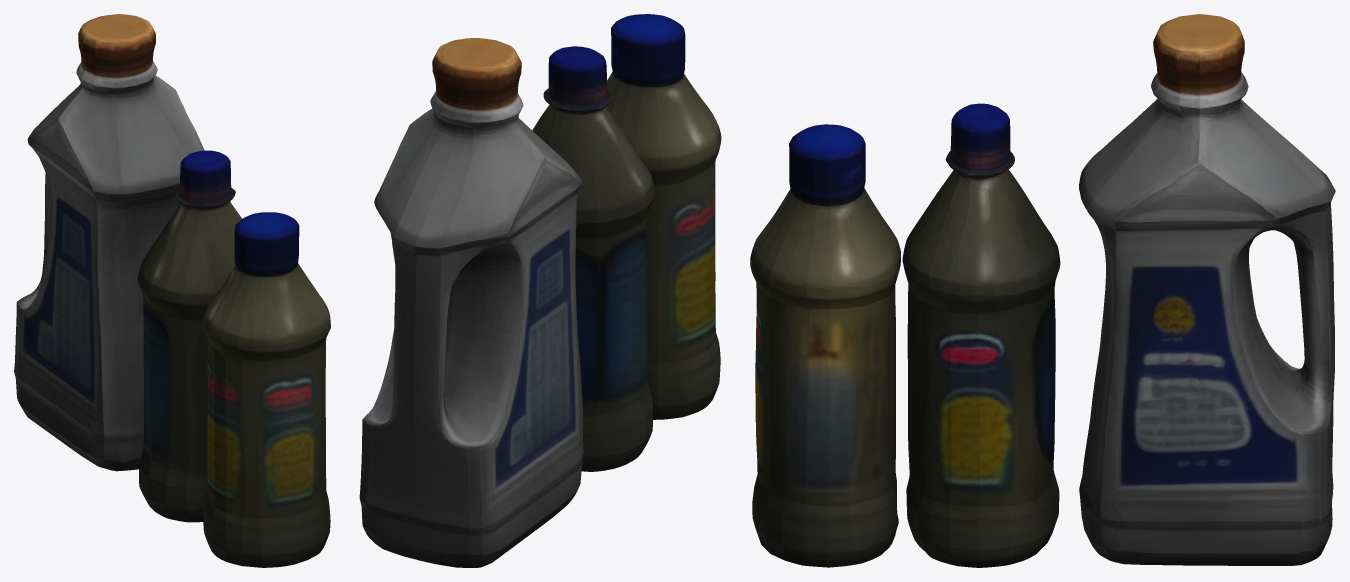
File: filth_auto_fluids.glb
3 renders of one model, left to right at view 1: azimuth 30°, elevation 25°; view 2: azimuth 150°, elevation 25°; view 3: azimuth 270°, elevation 25°, orthographic. The views are drawn at different scales.
Visible parts, largest first — view 1: geometry_0; view 2: geometry_0; view 3: geometry_0.
Boxes of the visible parts, box(x1,y1,x2,y2) form: geometry_0: box(14, 14, 330, 567); geometry_0: box(359, 14, 721, 567); geometry_0: box(750, 14, 1335, 567).
Bounding box in the file's own units: 0.2878 × 0.9598 × 0.9963.
1 material, 1 textured.
